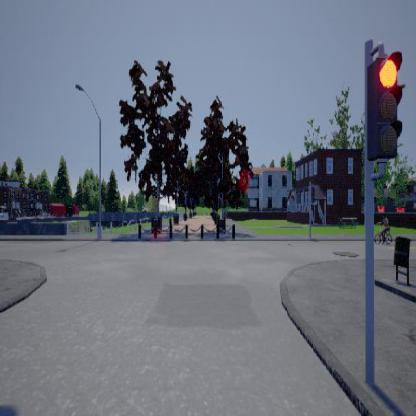bike: (373, 212, 393, 246)
traffic_light_red: (366, 41, 402, 180)
